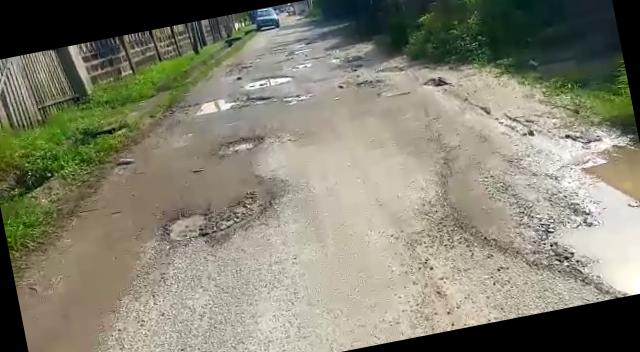pothole: (533, 135, 640, 306), (154, 186, 288, 254), (187, 89, 264, 118), (208, 130, 271, 160), (240, 70, 294, 90)
